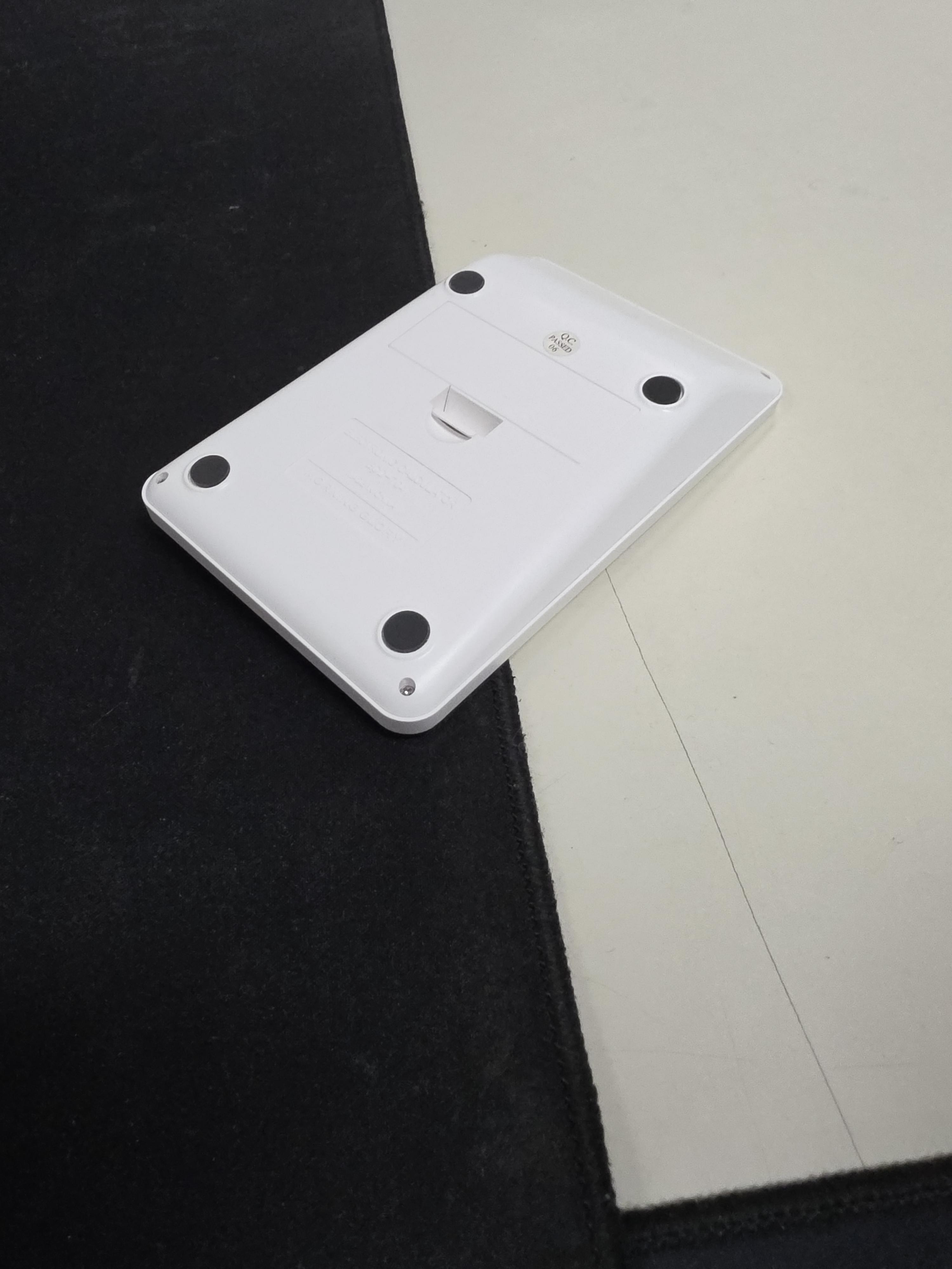calculator: (141, 253, 784, 735)
